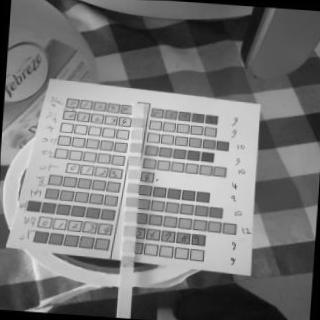mark: (121, 257, 135, 267), (123, 241, 135, 252), (126, 198, 139, 208), (125, 226, 136, 237), (124, 212, 136, 222), (129, 170, 141, 179), (132, 106, 145, 114), (128, 184, 138, 194), (130, 156, 140, 166), (132, 144, 142, 154), (132, 132, 144, 140), (134, 119, 144, 128)
